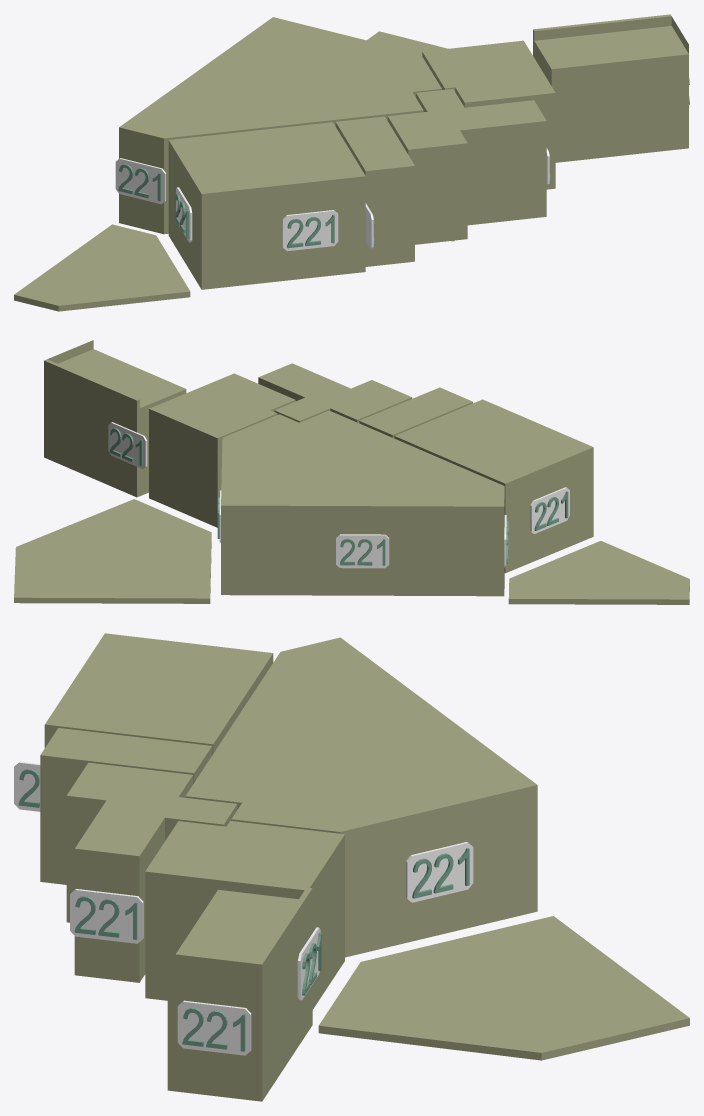
3 renders of one model, top to bottom at view 1: azimuth 30°, elevation 25°; view 2: azimuth 150°, elevation 25°; view 3: azimuth 270°, elevation 25°, orthographic. The views are drawn at different scales.
Parts seen in each view (by area): view 1: g_1, g_0, g_5, g_3, g_7, g_2, g_4, g_39, g_23, g_6; view 2: g_0, g_6, g_1, g_5, g_4, g_7, g_3, g_2, g_27, g_19, g_43; view 3: g_0, g_6, g_5, g_4, g_1, g_3, g_2, g_35, g_11, g_15, g_31, g_19.
Boxes of the visible parts, <box> form: g_1: <box>168,122,365,289</box>; g_0: <box>119,17,441,234</box>; g_5: <box>533,14,688,162</box>; g_3: <box>387,89,546,244</box>; g_7: <box>14,224,190,311</box>; g_2: <box>335,116,414,266</box>; g_4: <box>422,40,555,189</box>; g_39: <box>282,210,338,251</box>; g_23: <box>115,158,165,204</box>; g_6: <box>367,31,447,55</box>; g_0: <box>221,410,504,596</box>; g_6: <box>14,499,211,603</box>; g_1: <box>394,399,593,573</box>; g_5: <box>44,340,186,497</box>; g_4: <box>149,373,295,527</box>; g_7: <box>508,541,689,604</box>; g_3: <box>258,363,412,422</box>; g_2: <box>359,387,472,438</box>; g_27: <box>336,534,389,568</box>; g_19: <box>108,422,147,469</box>; g_43: <box>530,487,569,533</box>; g_0: <box>185,637,537,957</box>; g_6: <box>318,916,689,1060</box>; g_5: <box>167,887,312,1101</box>; g_4: <box>145,821,344,1009</box>; g_1: <box>44,633,273,754</box>; g_3: <box>66,762,237,982</box>; g_2: <box>40,728,212,884</box>; g_35: <box>177,1000,251,1055</box>; g_11: <box>70,889,143,943</box>; g_15: <box>406,842,473,902</box>; g_31: <box>14,761,40,811</box>; g_19: <box>297,927,320,1000</box>.
Size of the model in its own units: 18.37 by 2.85 by 12.07.
